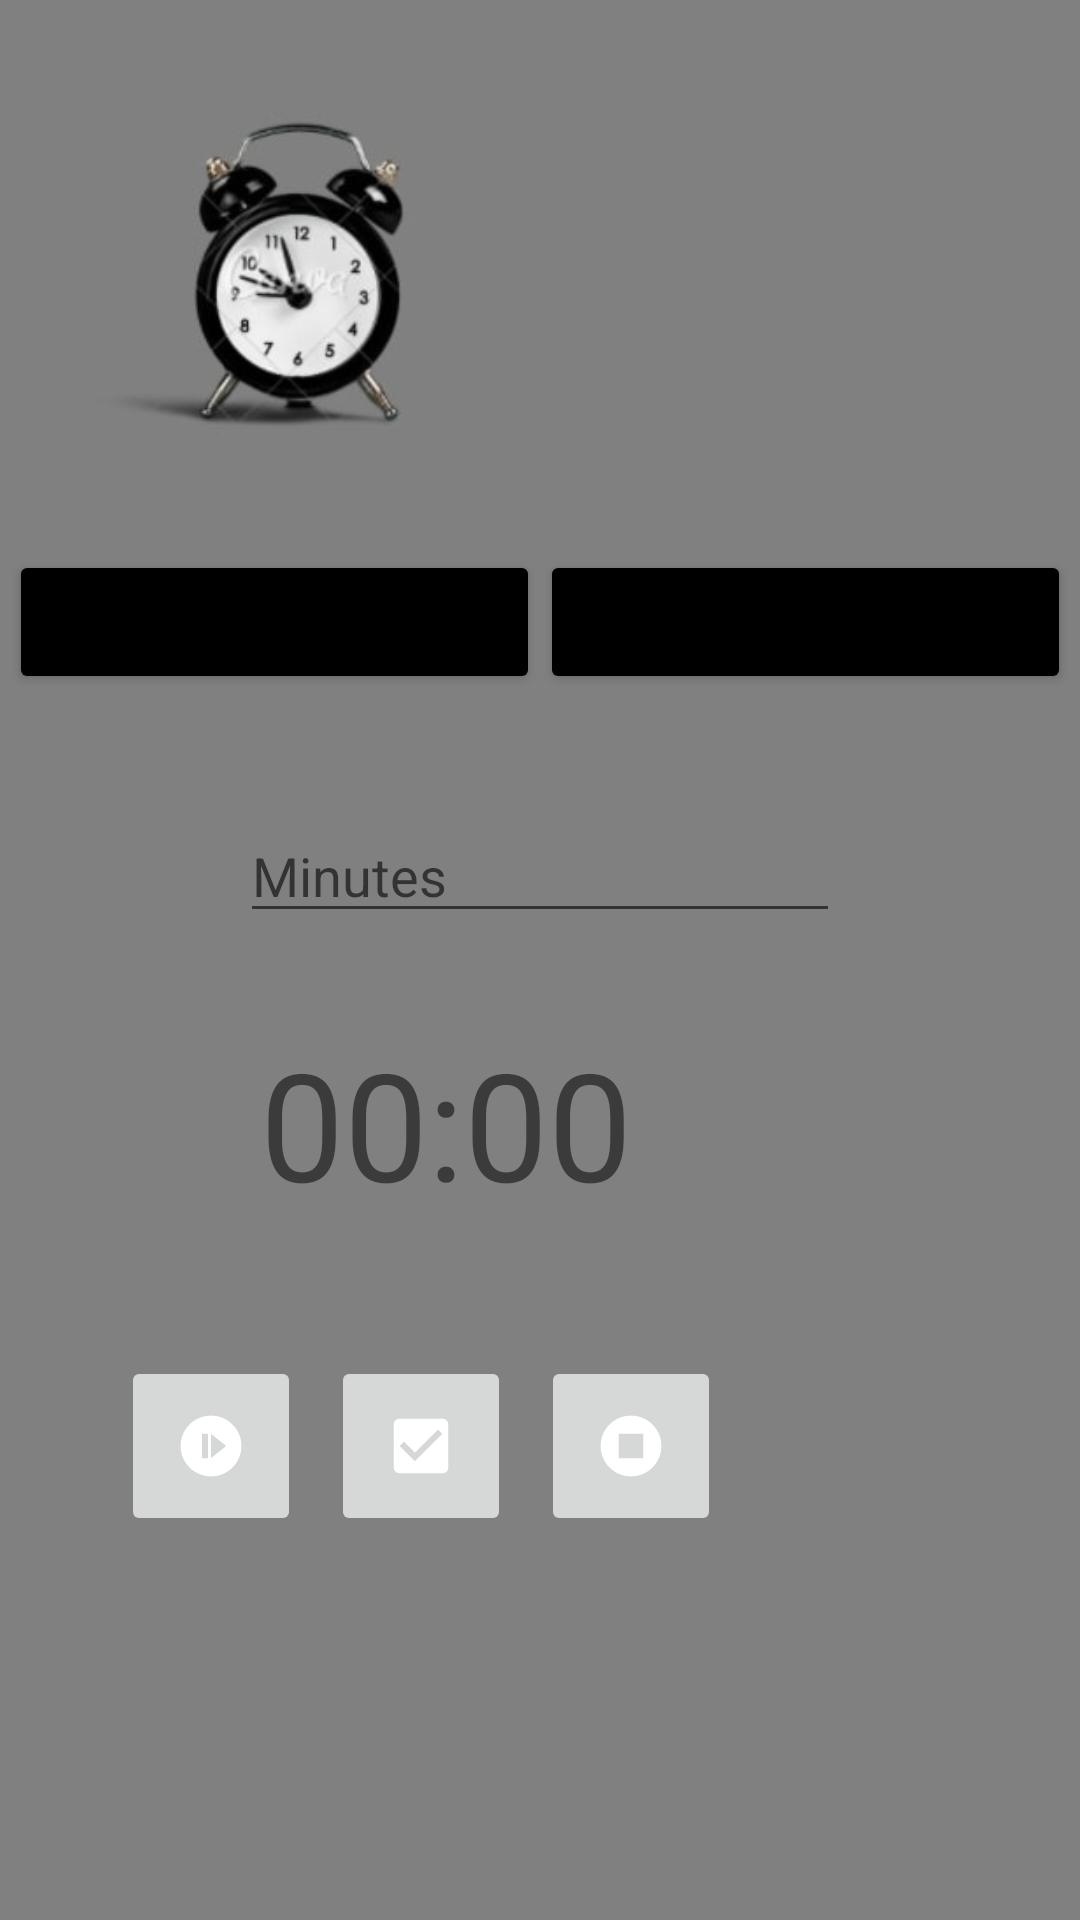

Screen size 1080w x 1920h. Icon name, then its box in pixels as (x1, y1, x2, y2):
check: (343, 1374, 499, 1518)
start: (133, 1374, 289, 1518)
stop: (553, 1374, 709, 1518)
